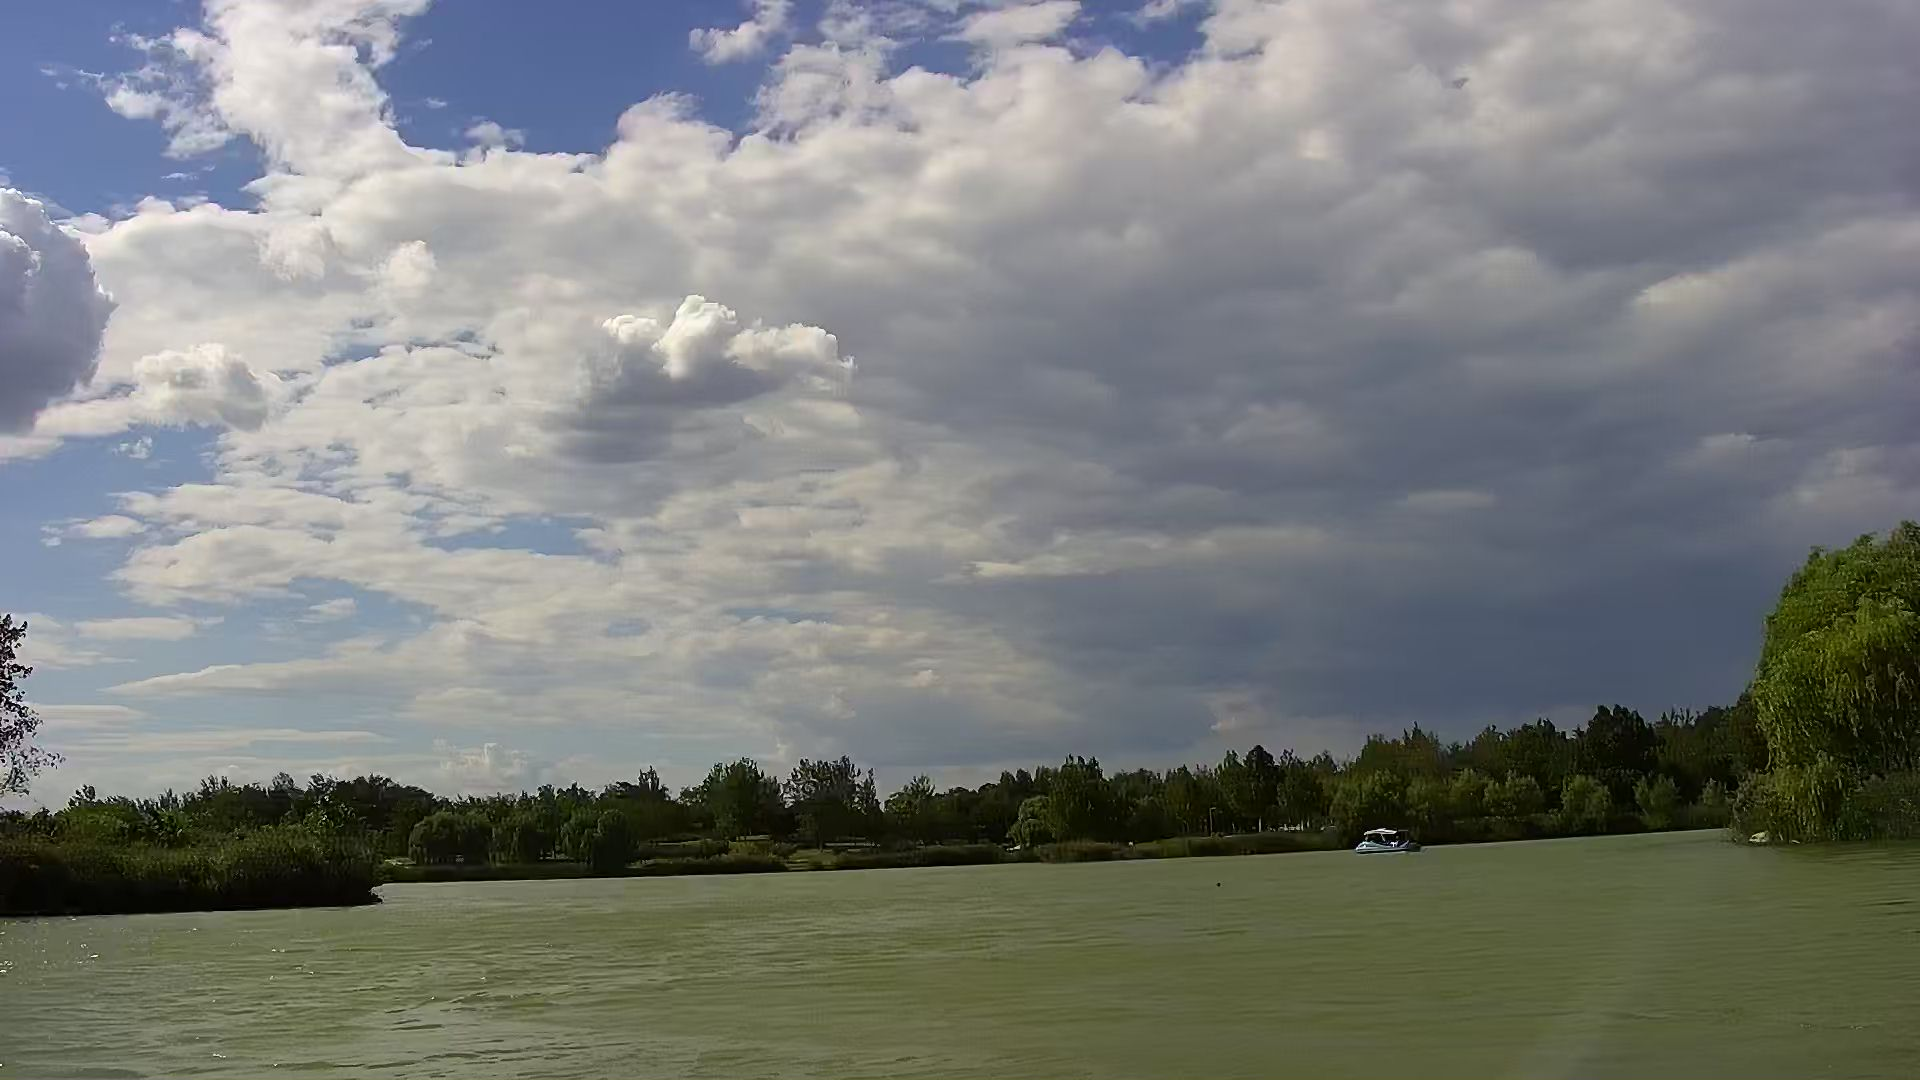boat: (1350, 823, 1420, 855)
rock: (1747, 829, 1778, 847)
